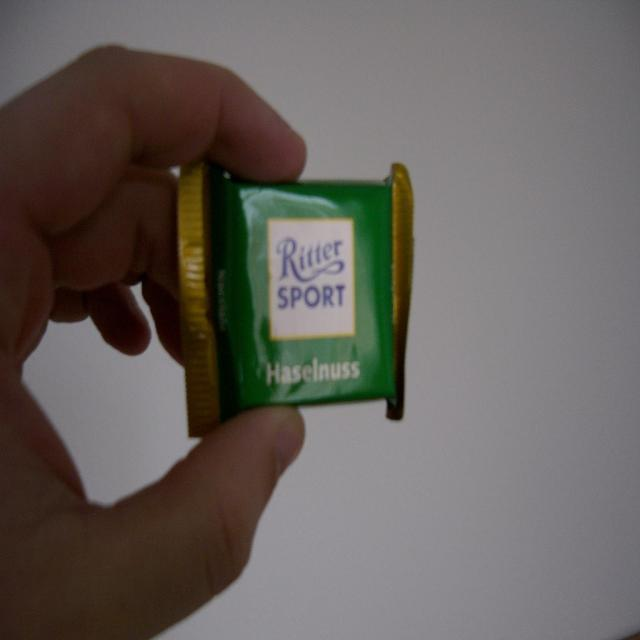rittersport: (266, 214, 358, 343)
